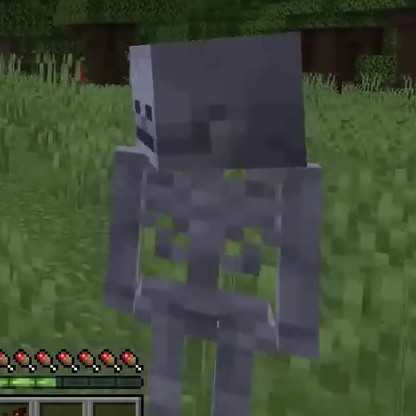skeleton: (108, 28, 329, 346)
